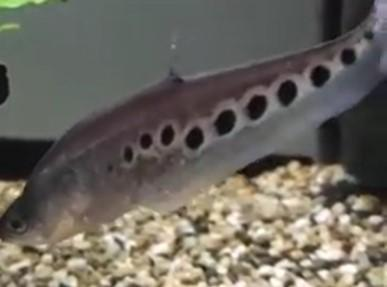Knifefish: (2, 1, 387, 251)
